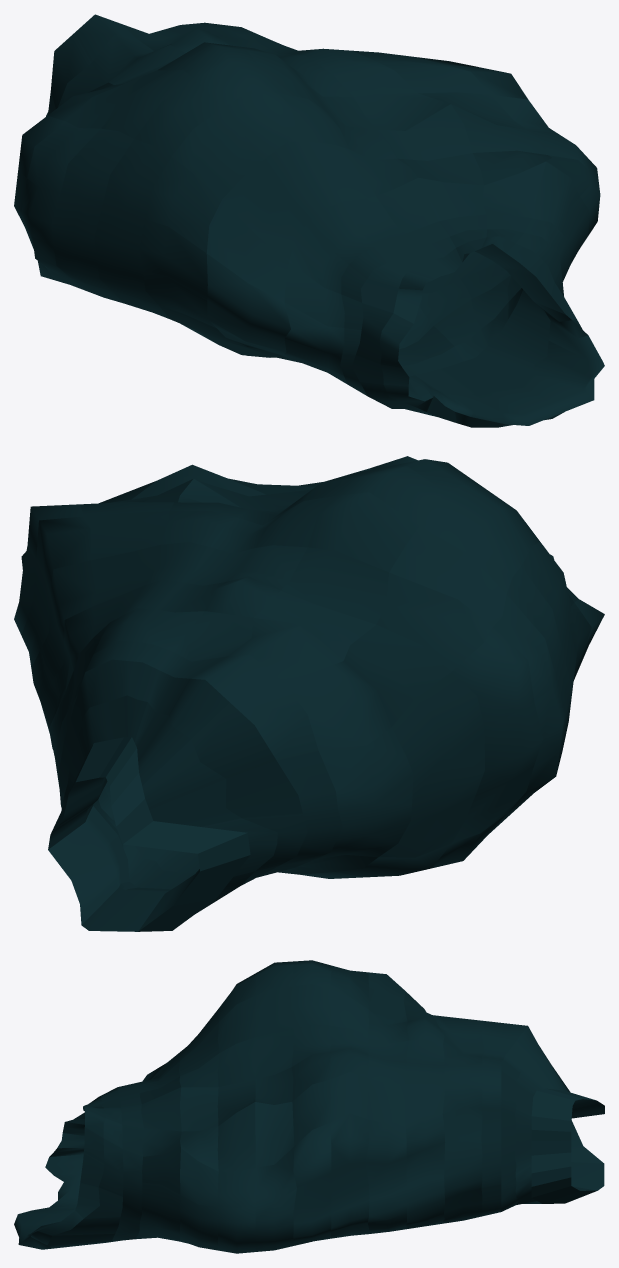
File: Cave_Rough_Draft.fbx
The picture shows the model from 3 angles, top to bottom: view 1: azimuth 30°, elevation 25°; view 2: azimuth 150°, elevation 25°; view 3: azimuth 270°, elevation 25°; orthographic projection. The views are drawn at different scales.
Parts seen in each view (by area): view 1: pCylinder1; view 2: pCylinder1; view 3: pCylinder1.
Part boxes in pixels (x1=…): pCylinder1: x1=14, y1=14, x2=604, y2=427; pCylinder1: x1=14, y1=456, x2=604, y2=931; pCylinder1: x1=14, y1=960, x2=604, y2=1253.
Size of the model in its own units: 228 by 126 by 299.
